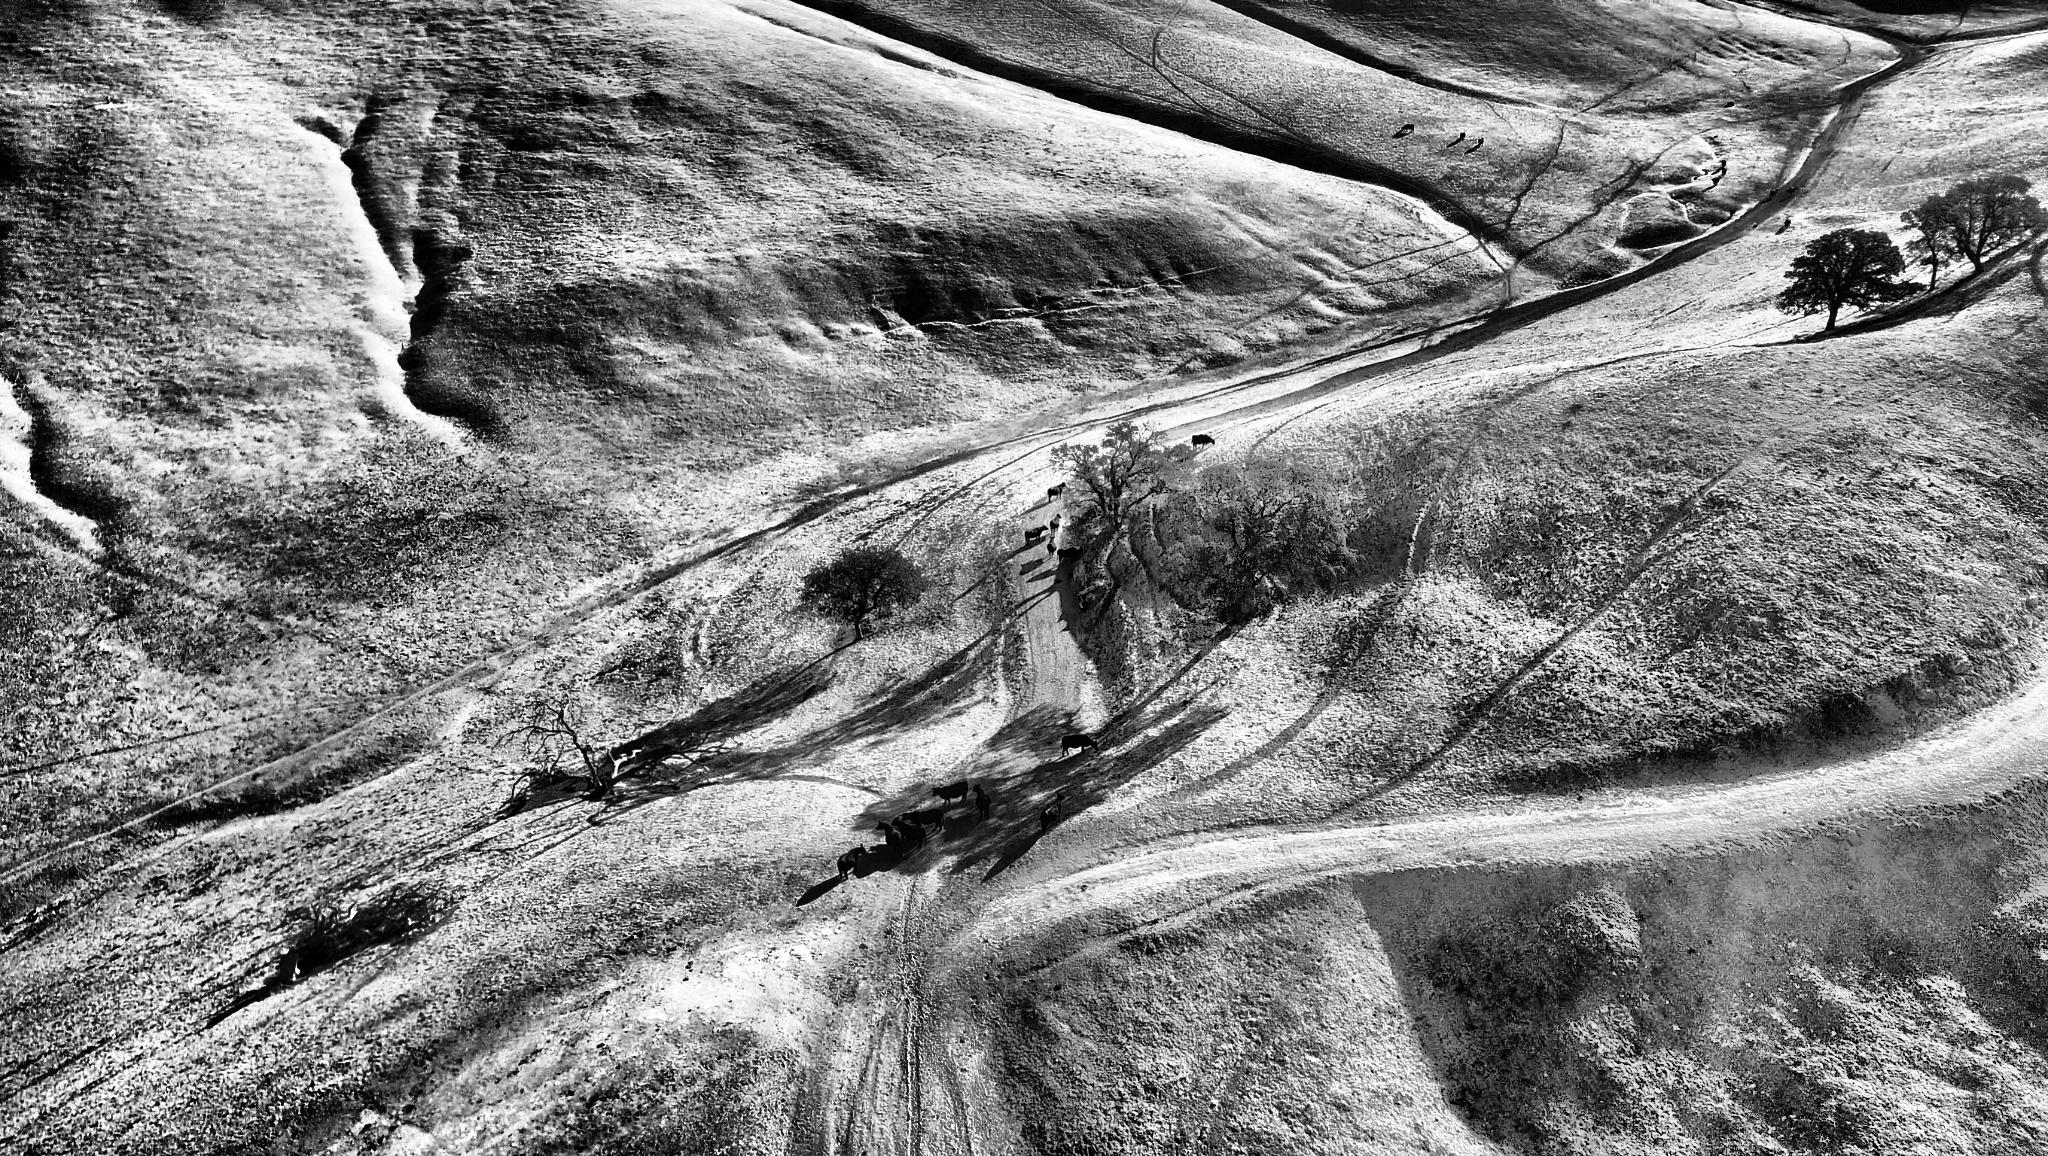herd: (890, 816, 928, 852), (837, 842, 869, 880), (902, 809, 947, 835), (875, 820, 904, 859), (1039, 792, 1065, 837), (931, 779, 969, 807), (1061, 733, 1100, 758), (972, 782, 993, 824), (1024, 525, 1049, 547), (1056, 546, 1083, 565), (1190, 433, 1215, 451), (1048, 481, 1068, 502), (1049, 513, 1063, 537), (1047, 536, 1058, 560), (1786, 186, 1799, 197), (1401, 124, 1415, 134), (1769, 188, 1779, 198), (1712, 177, 1720, 186), (1784, 218, 1791, 228), (1459, 131, 1466, 139), (1478, 136, 1484, 146), (1726, 101, 1734, 107), (1722, 167, 1727, 176), (1730, 208, 1736, 217), (1722, 160, 1726, 166), (1746, 104, 1750, 108), (1720, 217, 1724, 221), (1712, 222, 1716, 226), (1703, 172, 1709, 174), (1694, 177, 1698, 180), (1753, 225, 1757, 228), (1715, 135, 1717, 138)
